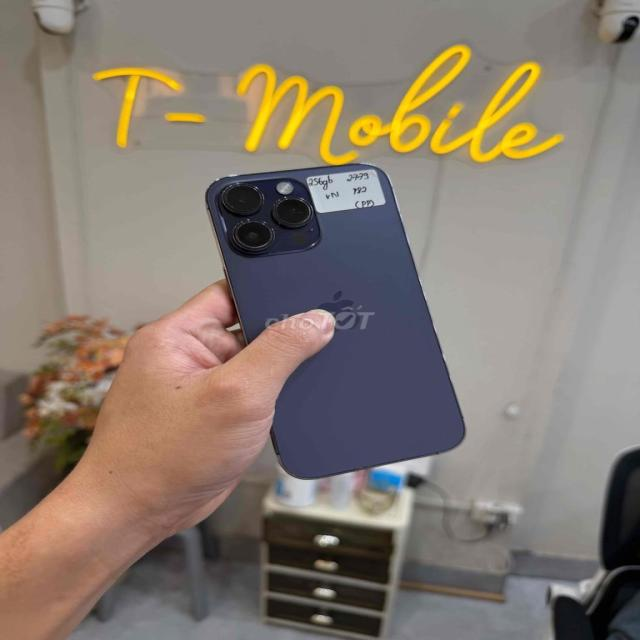gen_14: (198, 155, 472, 482)
